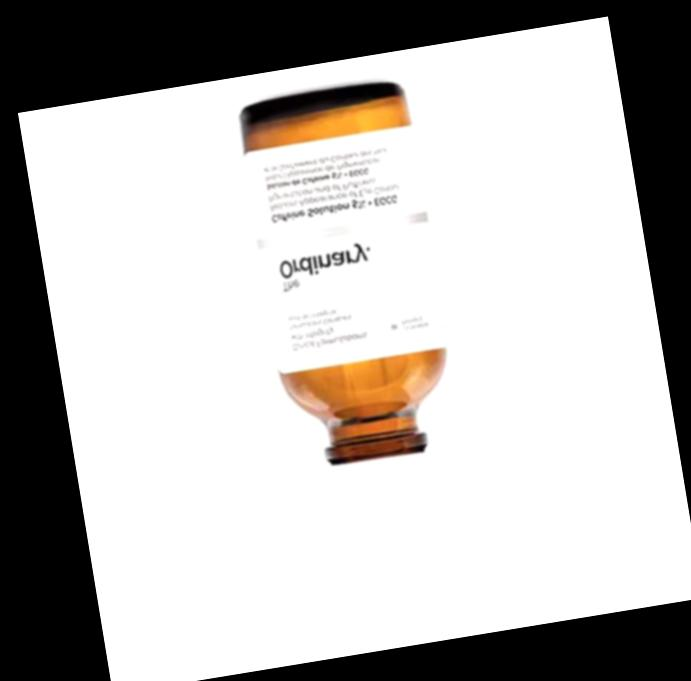cosmetic: (232, 80, 492, 634)
